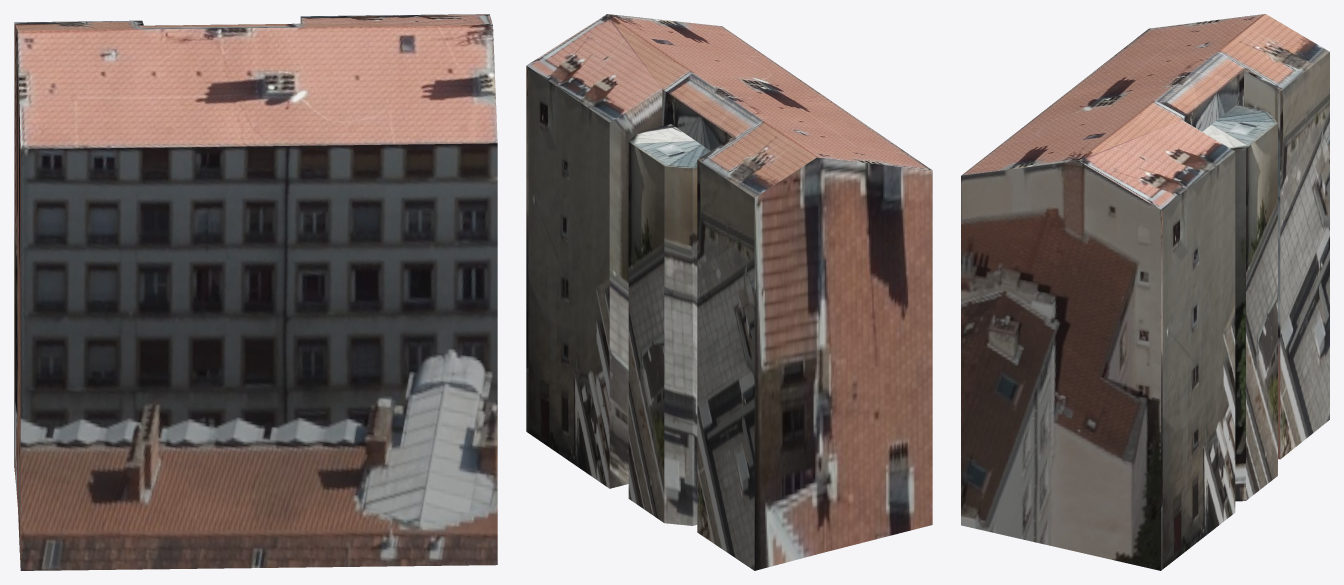
3 views of the same model, side by side, from view 1: azimuth 30°, elevation 25°; view 2: azimuth 150°, elevation 25°; view 3: azimuth 270°, elevation 25° (orthographic). The views are drawn at different scales.
Parts seen in each view (by area): view 1: Z_UP; view 2: Z_UP; view 3: Z_UP.
Part boxes in pixels (bbox=[...]): Z_UP: bbox=[14, 14, 497, 570]; Z_UP: bbox=[526, 14, 932, 570]; Z_UP: bbox=[961, 14, 1329, 570].
Bounding box in the file's own units: 24.27 × 22.99 × 19.63.
Materials: 2 (1 with a texture image).
